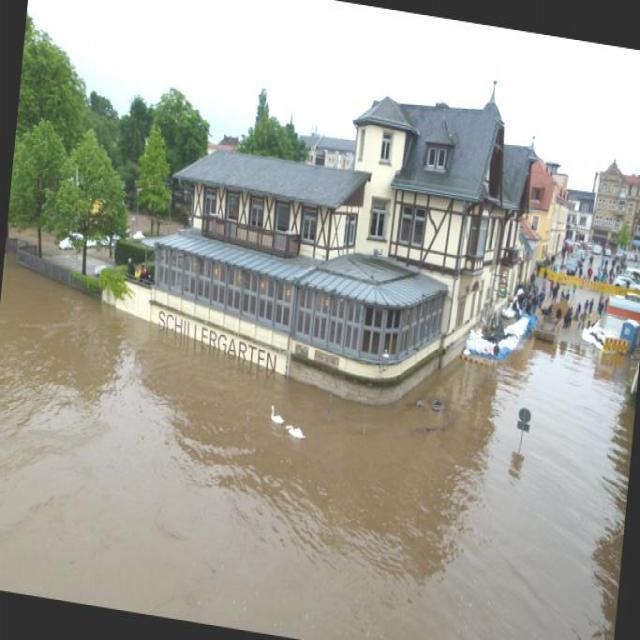flood: (0, 245, 639, 639)
